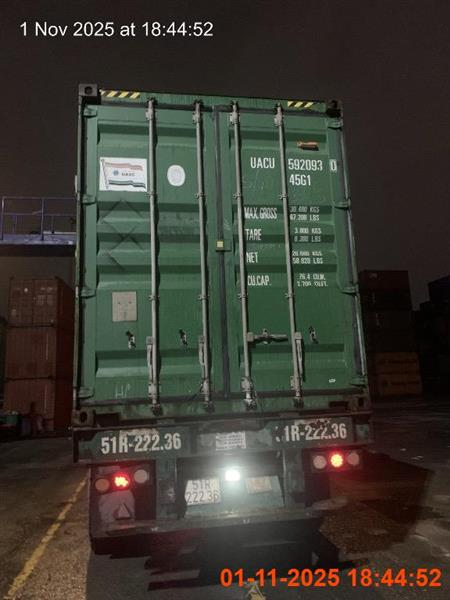hole: (70, 86, 375, 559)
